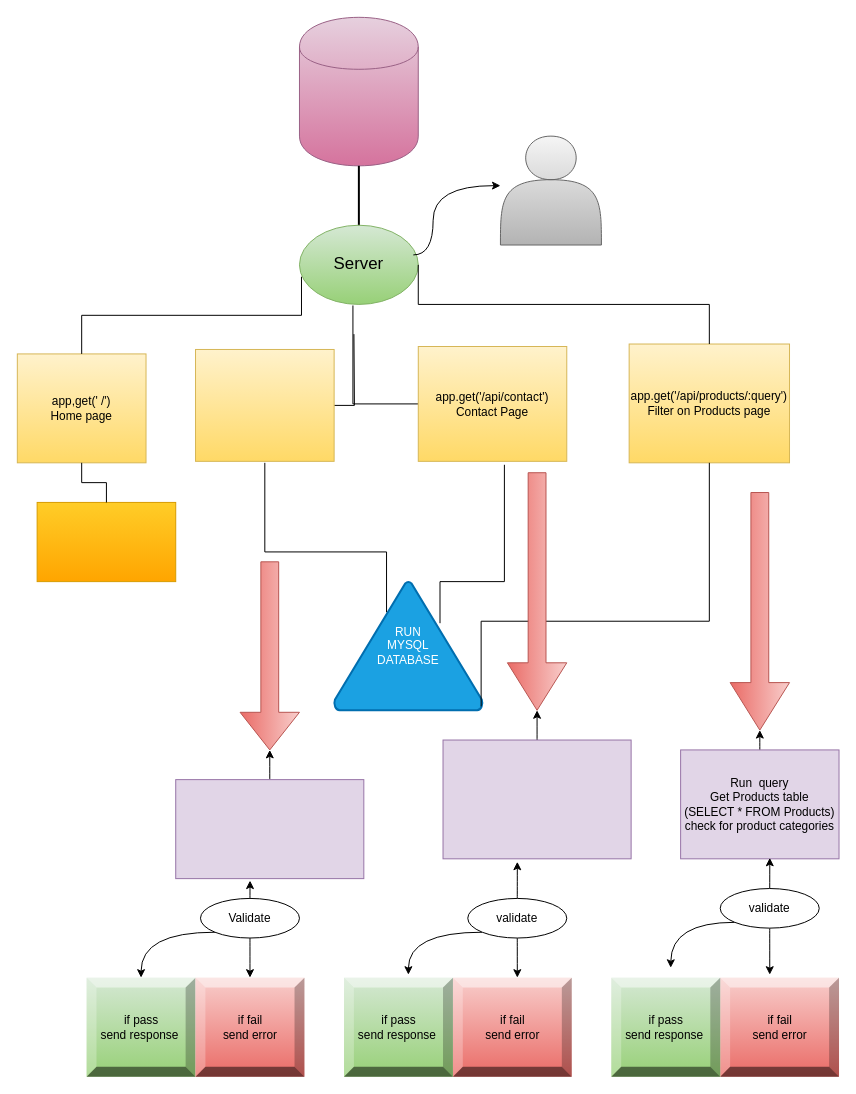
Image size: 856x1094. Some labels were removed from this diagram. Here are the shapes that lost their labels. From the top down, the centre of each, then its label:
pixel 358 91: Database
pixel 550 190: Client
pixel 264 404: app.get('/api/products") Products Page
pixel 106 541: Get Home webpage components
pixel 536 799: Run query Get Contacts table (SELECT * FROM Contacts)
pixel 269 829: Run query Get Products table (SELECT * FROM Products)
